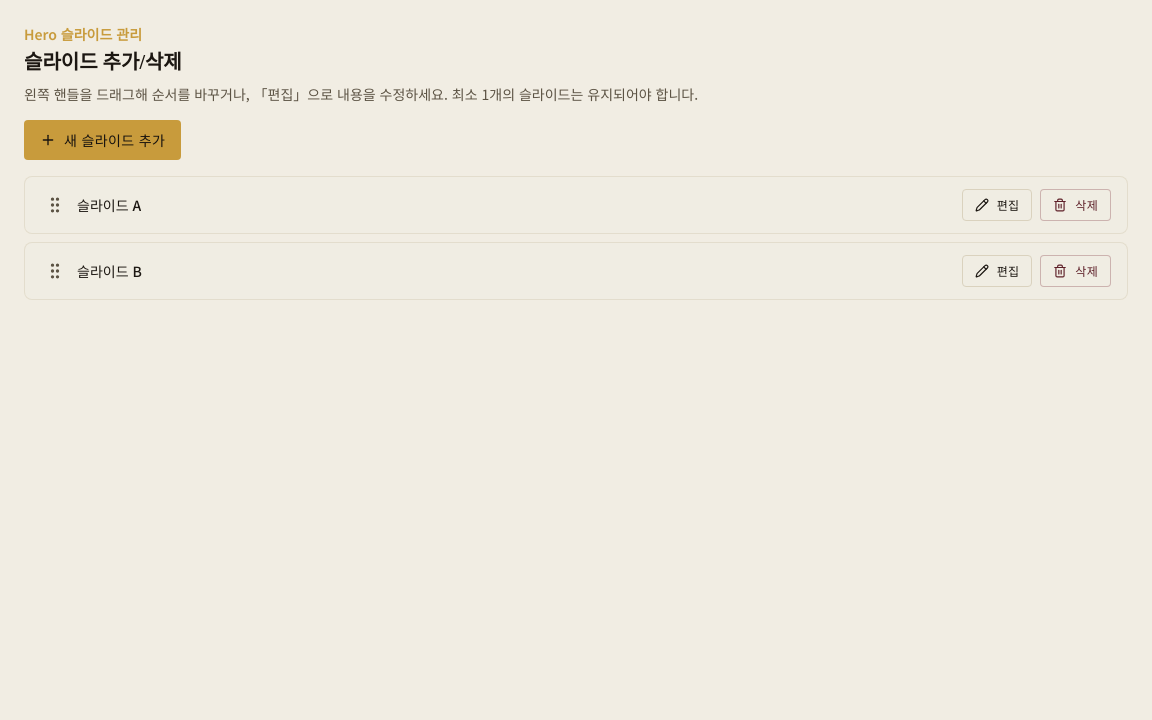
Test: HeroManagePanel › opens the edit dialog for the clicked slide regardless of list order
The width and height of the screenshot is (1152, 720).
Click the button "편집" in the row of "슬라이드 B": (997, 271) [962,255,1032,287]
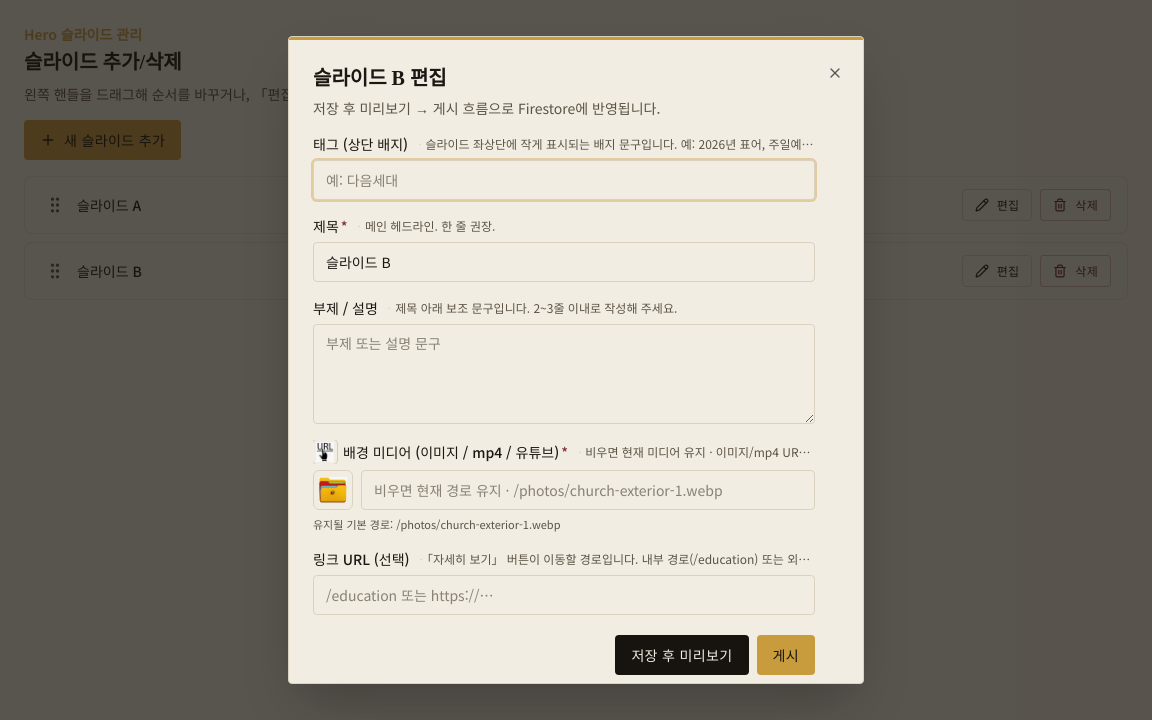
Expected: the dialog is shown, [288,36,864,684]
Expected: the field labelled "제목*" holds "슬라이드 B", [313,242,815,282]
